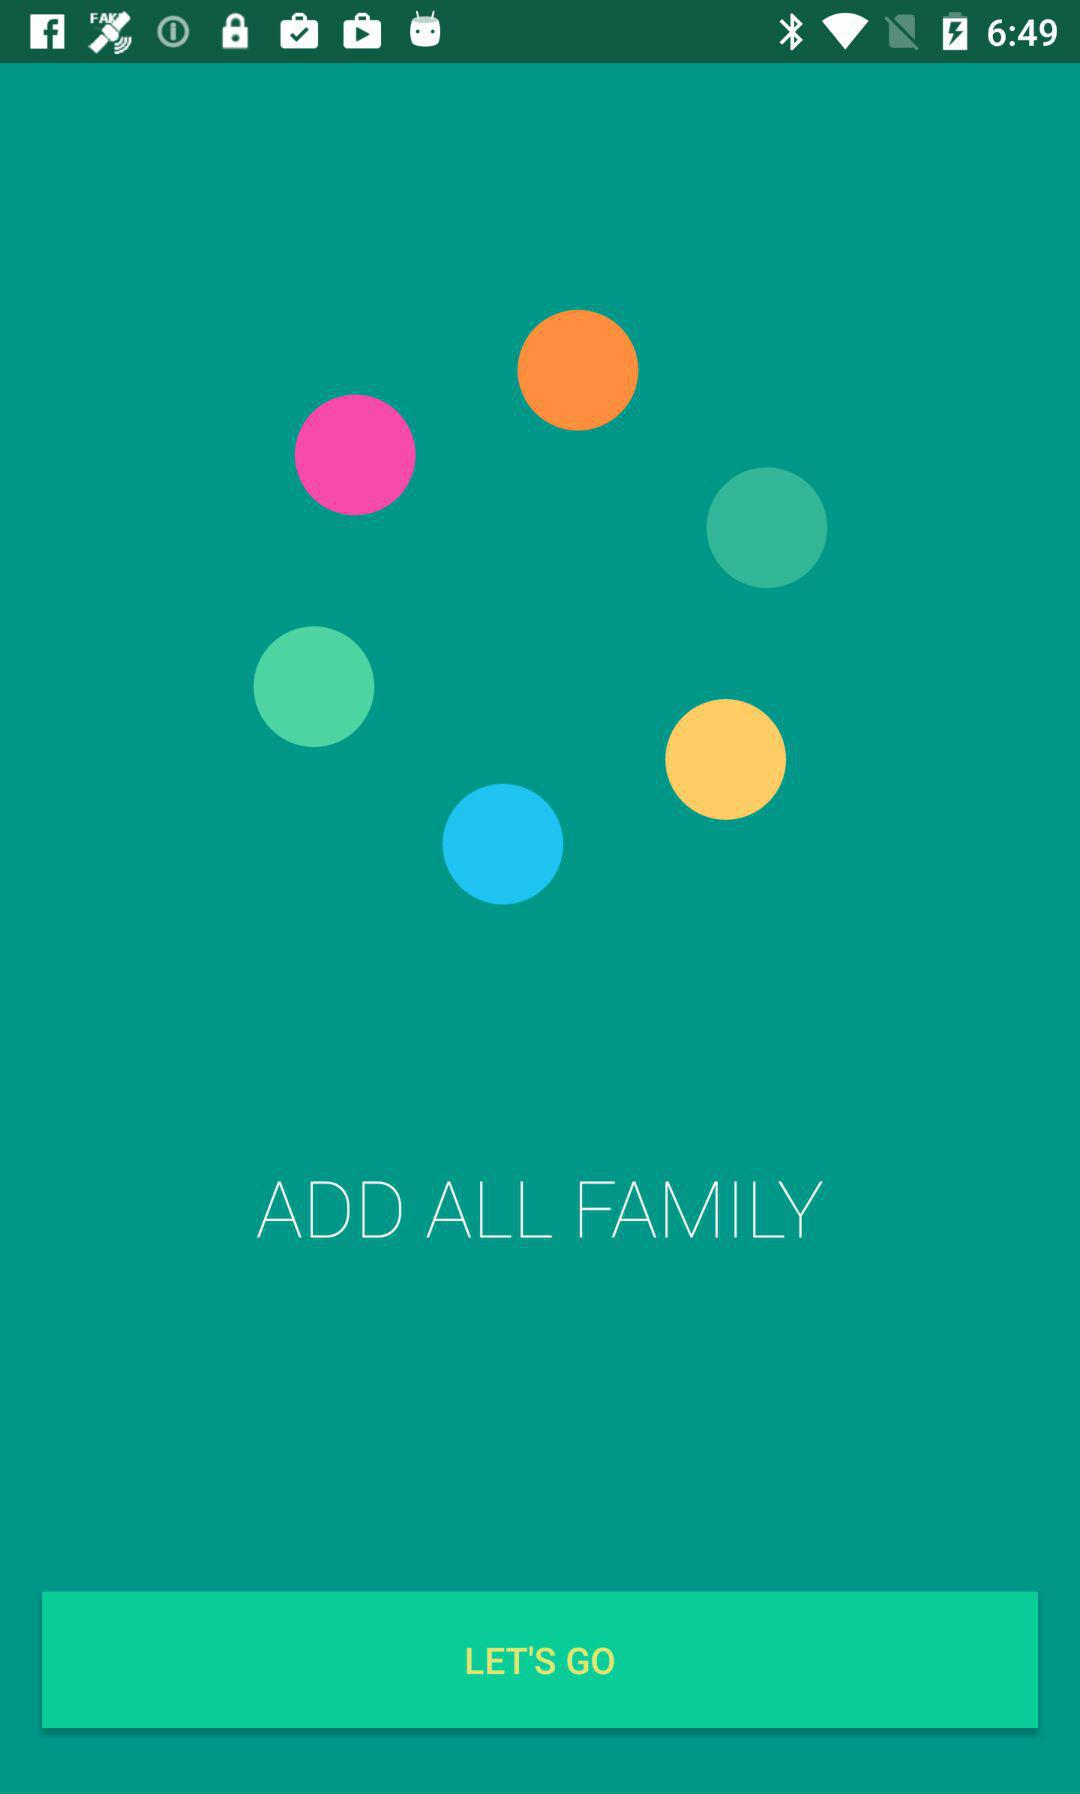Image: (252, 308, 831, 909)
Text: (258, 1179, 826, 1240)
TextButton: (42, 1592, 1039, 1729)
UpperTaskBar: (1, 1, 1080, 64)
